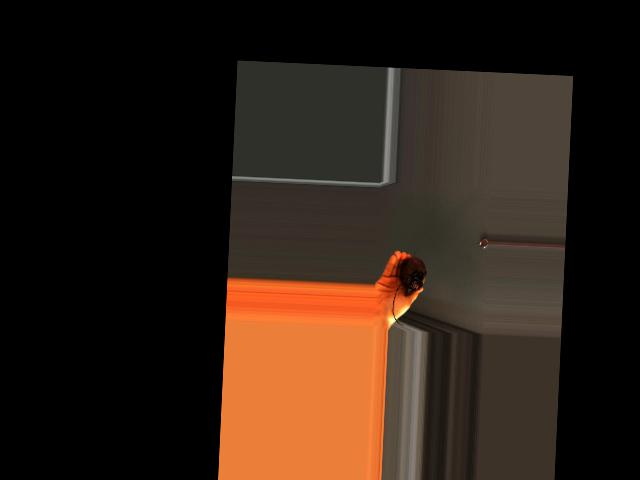beet: (391, 247, 427, 326)
